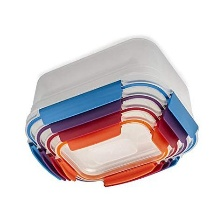plastic_box: (18, 31, 204, 194)
